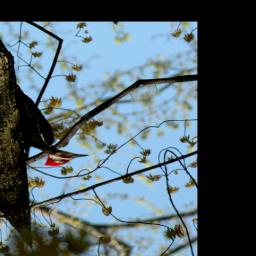Woodpecker: (0, 69, 93, 177)
